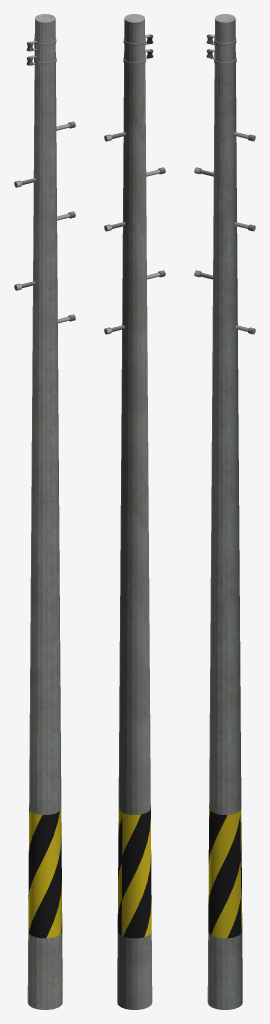
3 views of the same model, side by side, from view 1: azimuth 30°, elevation 25°; view 2: azimuth 210°, elevation 25°; view 3: azimuth 330°, elevation 25° (orthographic).
Parts seen in each view (by area): view 1: MainBuilding; view 2: MainBuilding; view 3: MainBuilding.
Boxes of the visible parts, x1,y1,x2,y2 form: MainBuilding: (14, 14, 75, 1009); MainBuilding: (104, 14, 165, 1009); MainBuilding: (194, 14, 255, 1009).
Bounding box in the file's own units: 0.062 × 1 × 0.0323.
1 material, 1 textured.
